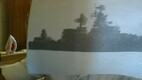tau_muctieu: (29, 7, 142, 54)
